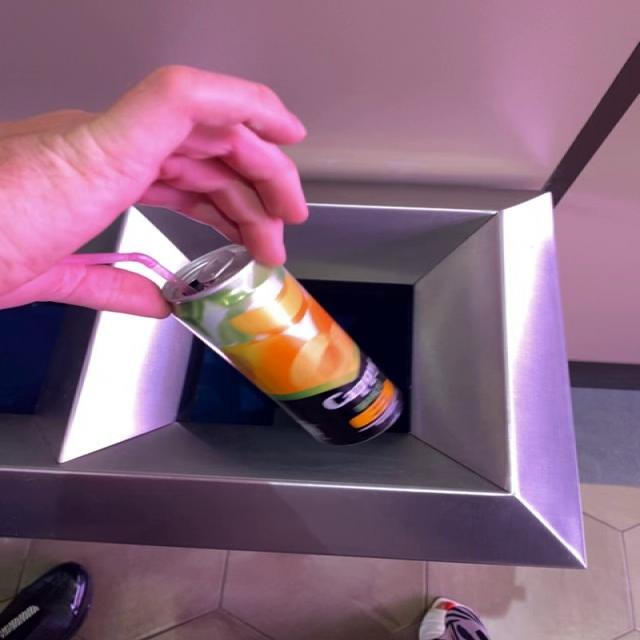bin: (1, 184, 587, 568)
metal: (163, 245, 401, 446)
